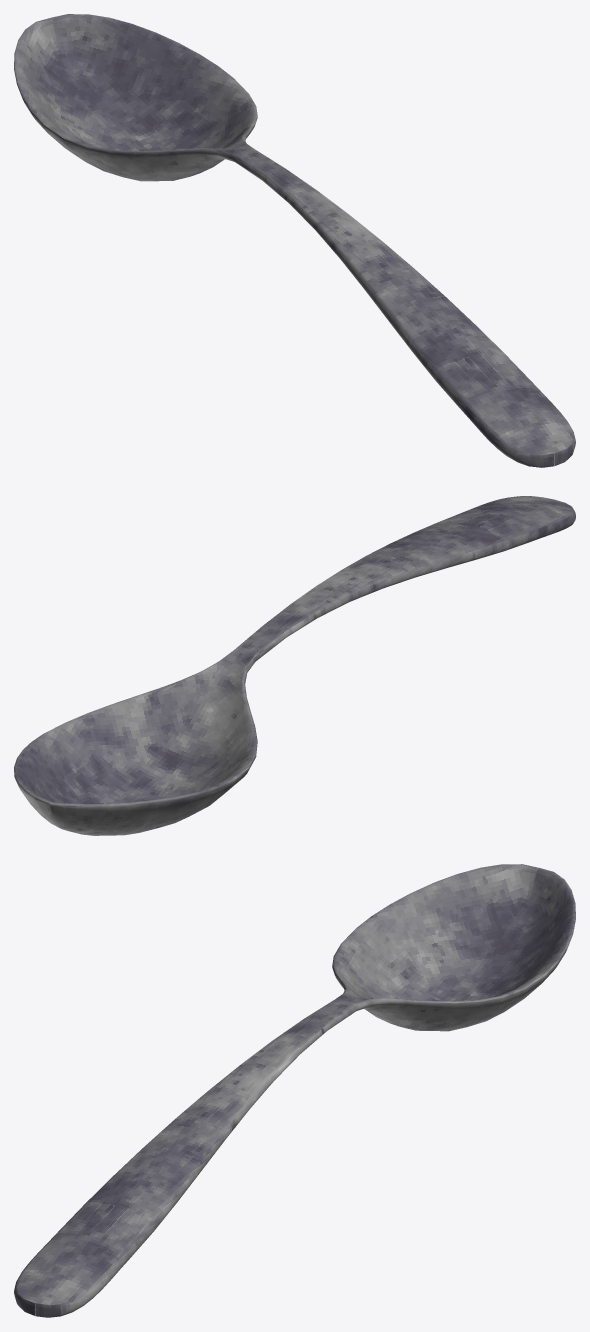
The model's file is spoon_old.glb.
3 views of the same model, one above another, from view 1: azimuth 30°, elevation 25°; view 2: azimuth 150°, elevation 25°; view 3: azimuth 330°, elevation 25° (orthographic).
Parts seen in each view (by area): view 1: mesh; view 2: mesh; view 3: mesh.
Part boxes in pixels (x1,y1,x2,y2): mesh: (14, 14, 575, 467); mesh: (14, 496, 575, 835); mesh: (14, 864, 575, 1317).
Bounding box in the file's own units: 0.329 × 0.1499 × 1.51.
Materials: 1 (1 with a texture image).
